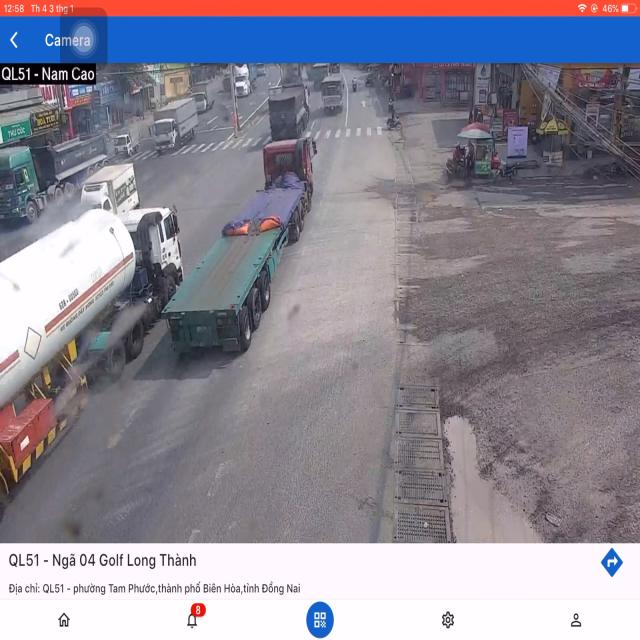truck: (0, 202, 180, 486), (195, 140, 317, 352), (0, 137, 113, 224), (149, 100, 198, 155), (266, 82, 310, 140), (322, 75, 342, 112)
